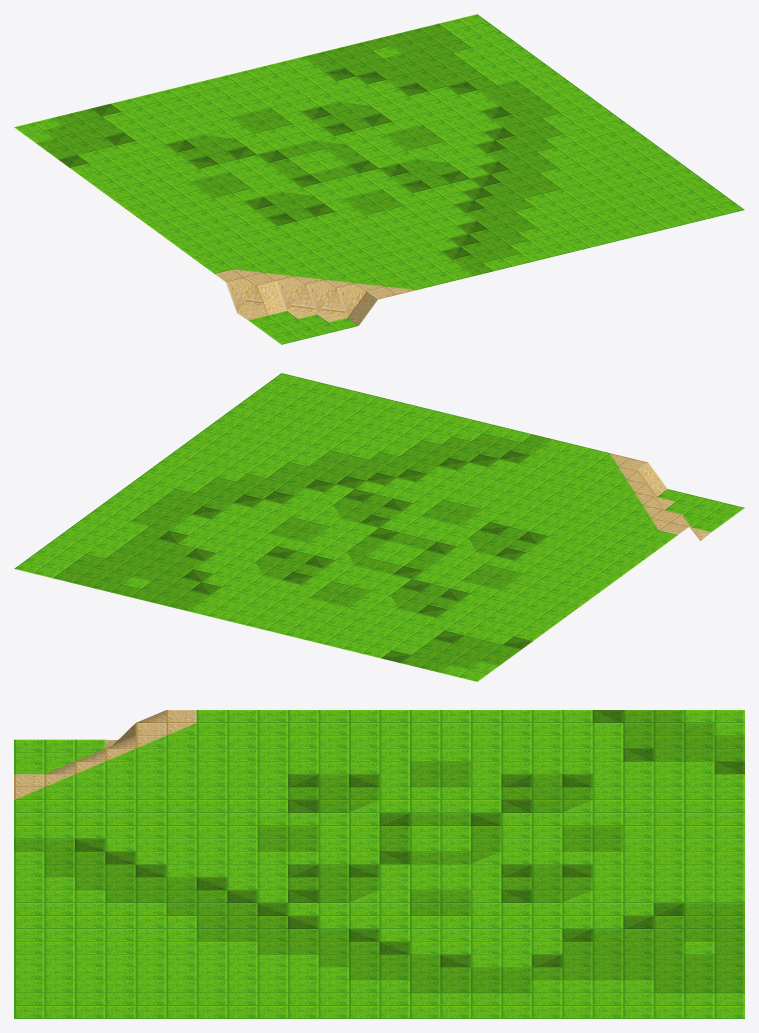
File: FloorCorner_2.obj
3 renders of one model, top to bottom at view 1: azimuth 30°, elevation 25°; view 2: azimuth 150°, elevation 25°; view 3: azimuth 270°, elevation 25°, orthographic. The views are drawn at different scales.
Visible parts, largest first — view 1: FloorCorner_2; view 2: FloorCorner_2; view 3: FloorCorner_2.
Boxes of the visible parts, <box> form: FloorCorner_2: <box>14,14,744,344</box>; FloorCorner_2: <box>14,373,744,681</box>; FloorCorner_2: <box>14,710,744,1018</box>.
Bounding box in the file's own units: 24 × 1.11 × 24.
